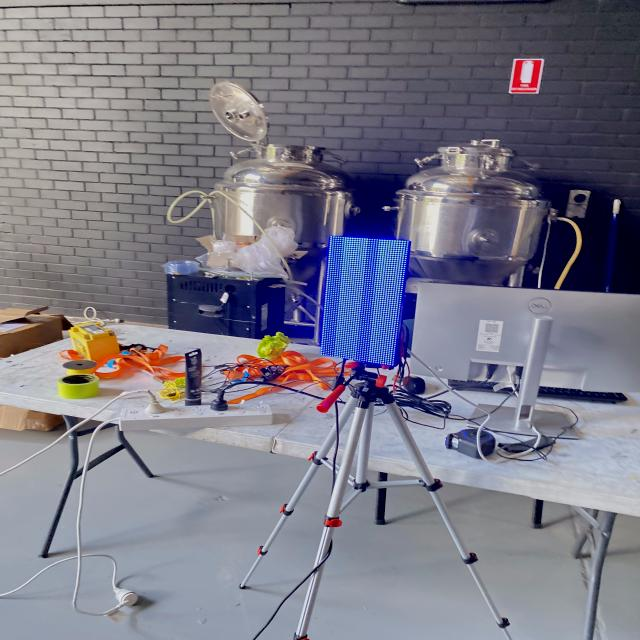matrix: (313, 233, 413, 369)
